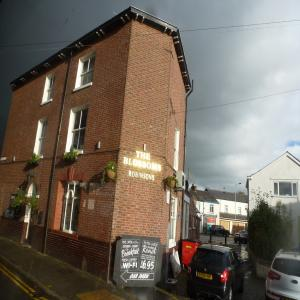Vehicle-registration-plate: (200, 274, 215, 282)
